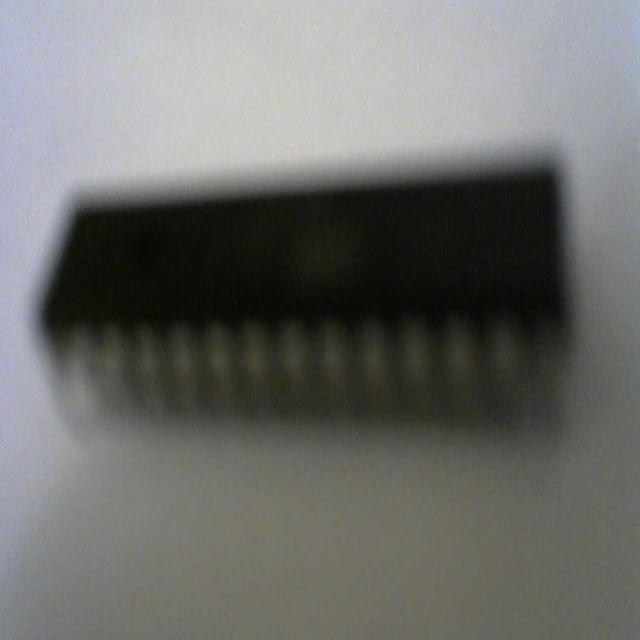atmega: (36, 151, 576, 445)
